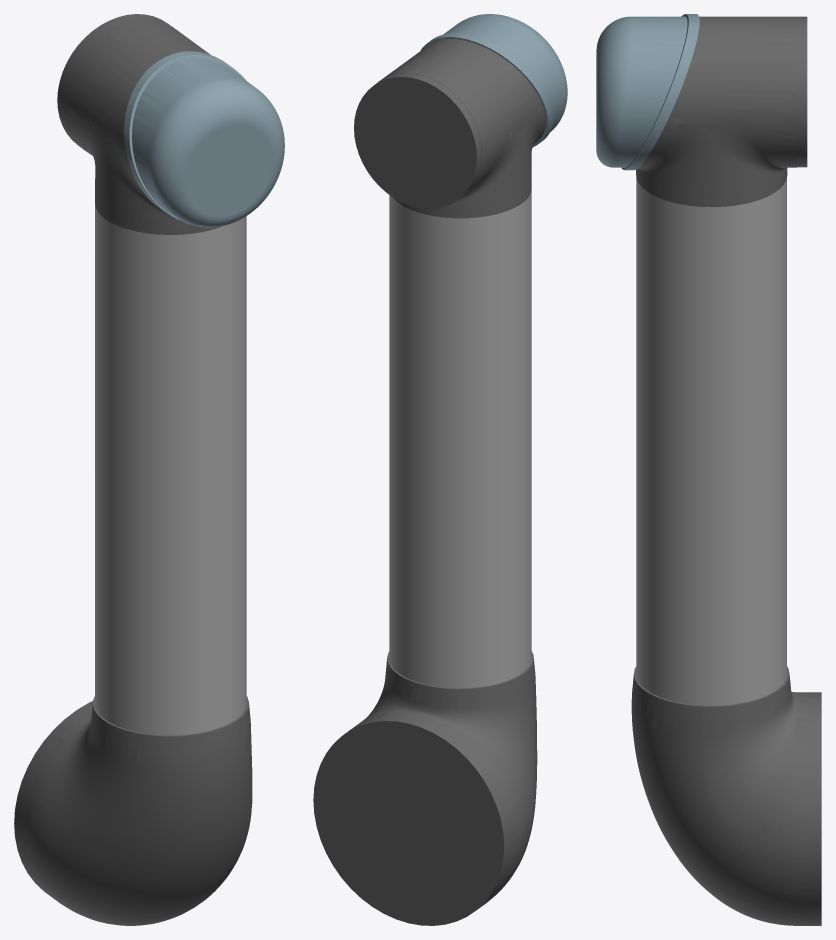
The picture shows the model from 3 angles, left to right: view 1: azimuth 30°, elevation 25°; view 2: azimuth 150°, elevation 25°; view 3: azimuth 270°, elevation 25°; orthographic projection. The views are drawn at different scales.
Parts seen in each view (by area): view 1: ActorShape1_0-Mesh_021-mesh, ActorShape3_0-Mesh_012-mesh, ActorShape0_0-Mesh_029-mesh, ActorShape2_0-Mesh_012-mesh; view 2: ActorShape1_0-Mesh_021-mesh, ActorShape3_0-Mesh_012-mesh, ActorShape2_0-Mesh_012-mesh, ActorShape0_0-Mesh_029-mesh; view 3: ActorShape1_0-Mesh_021-mesh, ActorShape3_0-Mesh_012-mesh, ActorShape2_0-Mesh_012-mesh, ActorShape0_0-Mesh_029-mesh.
Boxes of the visible parts, x1,y1,x2,y2 form: ActorShape1_0-Mesh_021-mesh: [95, 204, 246, 735]; ActorShape3_0-Mesh_012-mesh: [14, 696, 252, 925]; ActorShape0_0-Mesh_029-mesh: [124, 51, 284, 227]; ActorShape2_0-Mesh_012-mesh: [57, 14, 222, 234]; ActorShape1_0-Mesh_021-mesh: [389, 191, 531, 688]; ActorShape3_0-Mesh_012-mesh: [313, 651, 537, 925]; ActorShape2_0-Mesh_012-mesh: [354, 39, 545, 218]; ActorShape0_0-Mesh_029-mesh: [420, 14, 567, 147]; ActorShape1_0-Mesh_021-mesh: [636, 178, 786, 705]; ActorShape3_0-Mesh_012-mesh: [631, 666, 821, 925]; ActorShape2_0-Mesh_012-mesh: [636, 16, 807, 207]; ActorShape0_0-Mesh_029-mesh: [596, 14, 699, 170].
Bounding box in the file's own units: 0.116 × 0.4892 × 0.1117.
